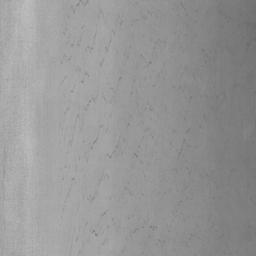Silk spot: (107, 136, 125, 159), (71, 0, 89, 14), (84, 96, 97, 111)
